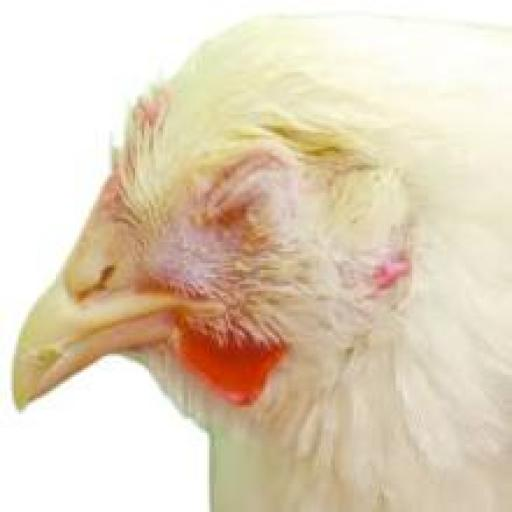disease: (154, 114, 351, 260)
